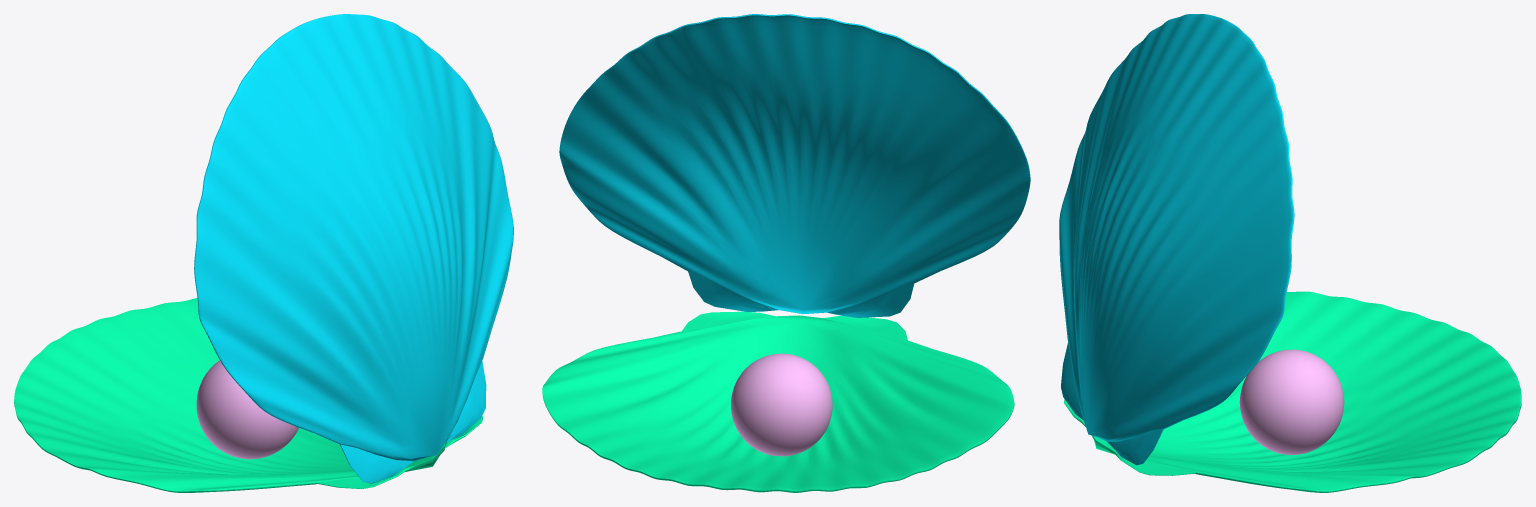
The model's file is clam.fbx.
The picture shows the model from 3 angles, left to right: view 1: azimuth 30°, elevation 25°; view 2: azimuth 150°, elevation 25°; view 3: azimuth 270°, elevation 25°; orthographic projection. The views are drawn at different scales.
Parts seen in each view (by area): view 1: polySurface1, polySurface2, pSphere1; view 2: polySurface1, polySurface2, pSphere1; view 3: polySurface1, polySurface2, pSphere1.
Boxes of the visible parts, left/top/right/bottom form: polySurface1: left=194, top=14, right=513, bottom=483; polySurface2: left=14, top=298, right=483, bottom=492; pSphere1: left=196, top=360, right=298, bottom=459; polySurface1: left=559, top=14, right=1030, bottom=317; polySurface2: left=542, top=311, right=1014, bottom=492; pSphere1: left=731, top=353, right=832, bottom=456; polySurface1: left=1059, top=14, right=1294, bottom=465; polySurface2: left=1064, top=291, right=1521, bottom=492; pSphere1: left=1239, top=349, right=1344, bottom=454.
Size of the model in its own units: 31.38 by 29.15 by 28.53.
